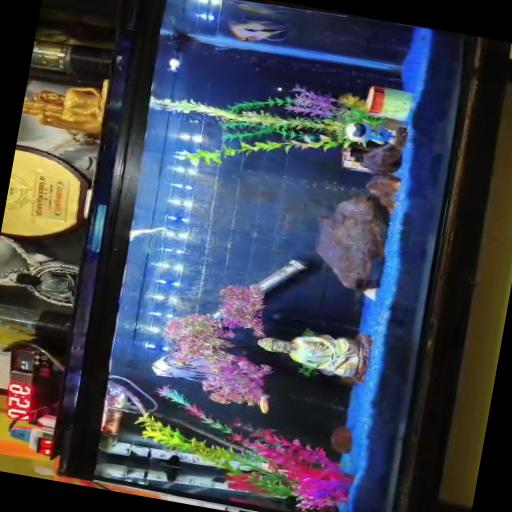Fish: (153, 351, 239, 382), (229, 20, 287, 41), (234, 3, 287, 16), (256, 393, 272, 413)
